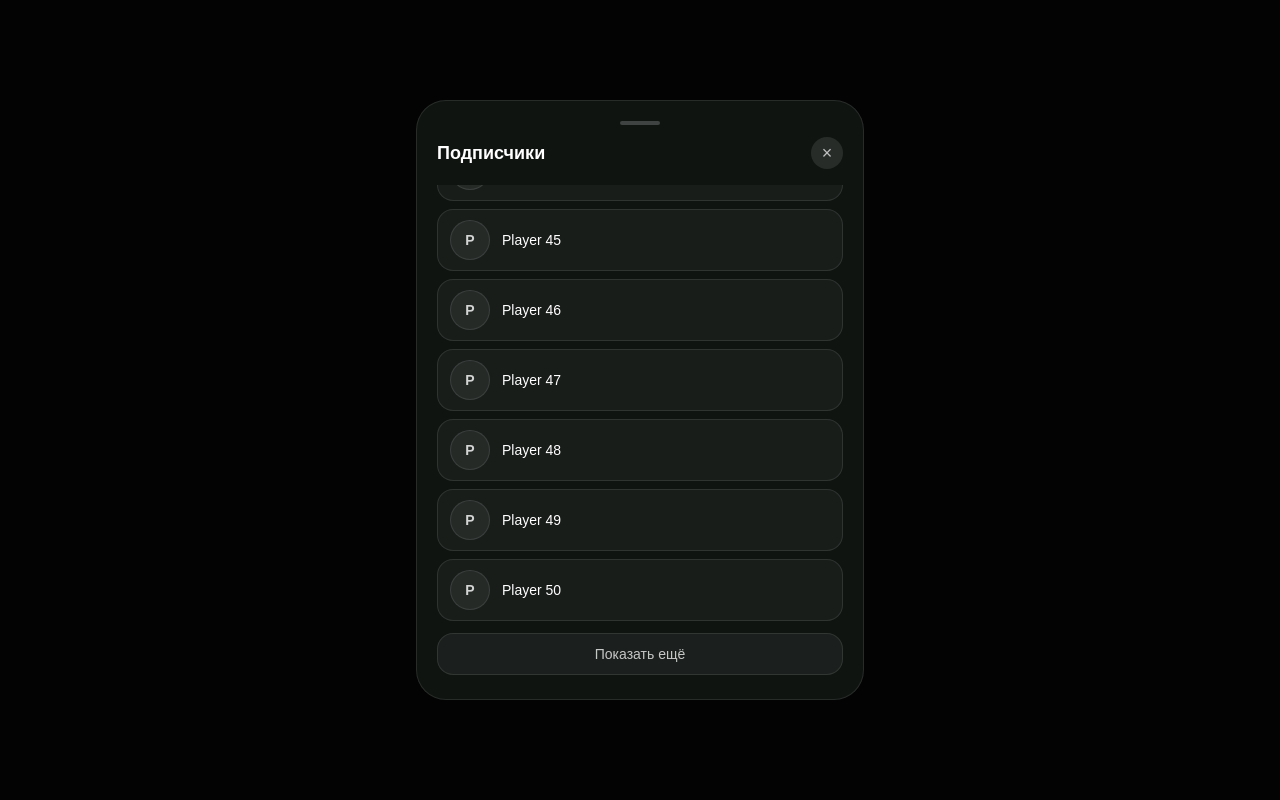
pagination › 7. a failed load-more keeps the first page and shows a local error
(page scrolled)
Step 1. Click the button "Показать ещё" → (640, 654), box [437,633,843,675]
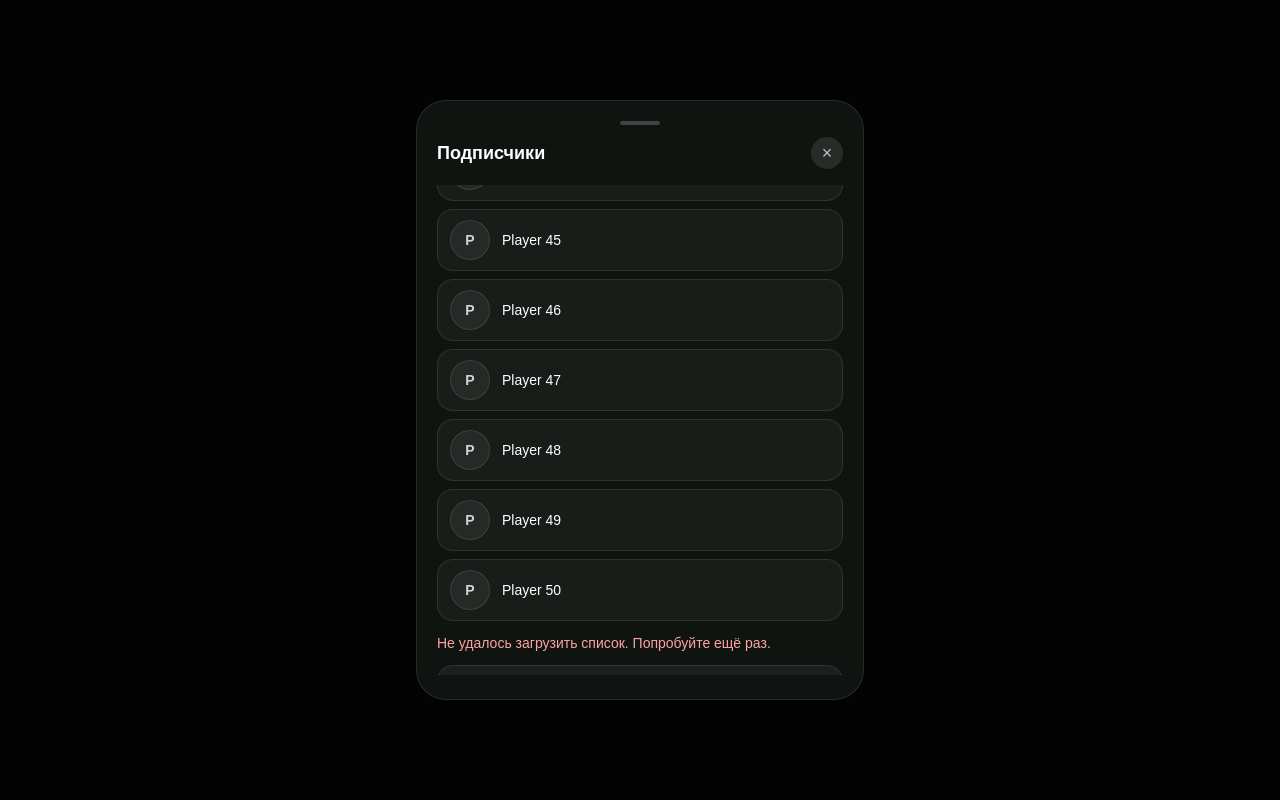
Expected: the dialog is shown, [416,100,864,700]
Expected: the text "Не удалось загрузить список. Попробуйте ещё раз." is shown, [437,635,771,651]
